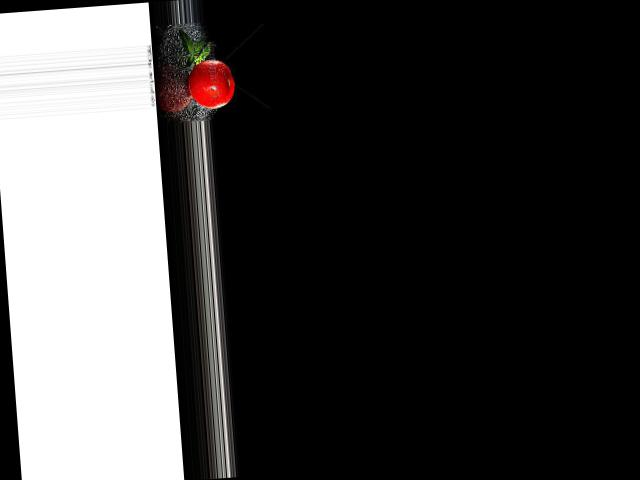tomato: (187, 58, 236, 109)
